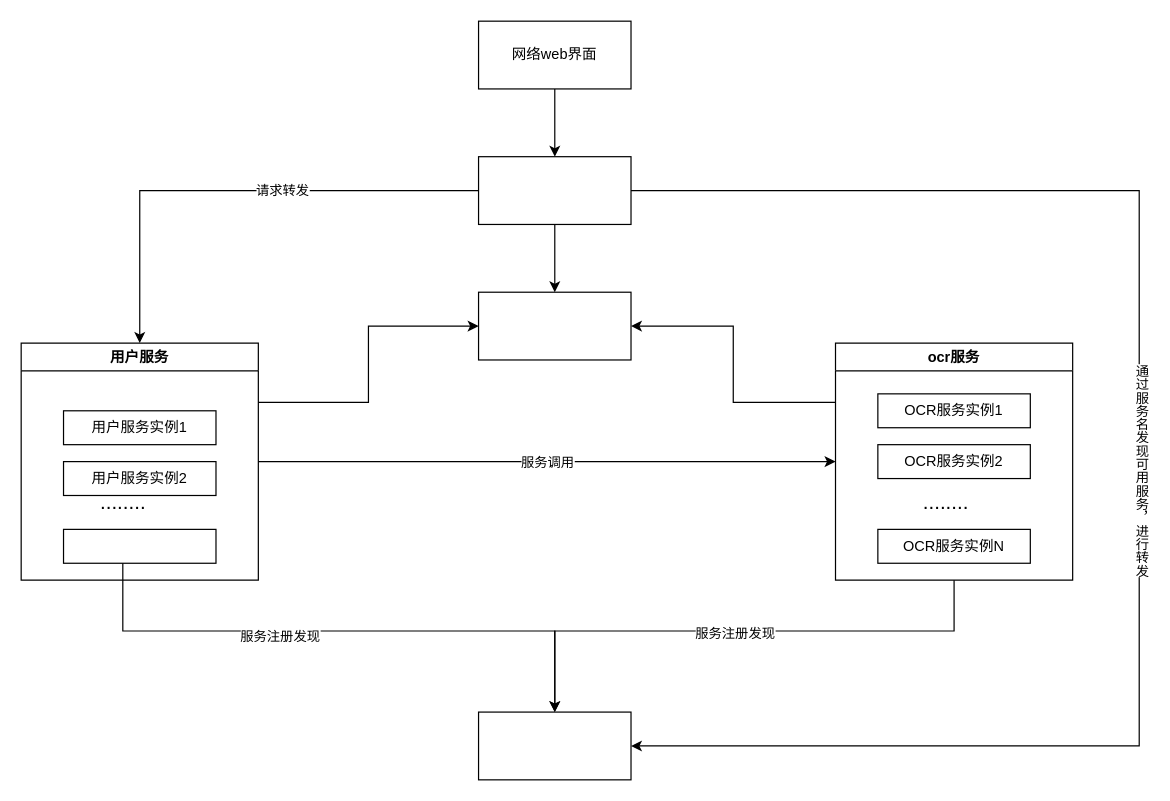
This 1170x801 diagram has some shape labels left out. The centre of each missing label's shape, as x and y in pixels:
Nacos总线服务进行配置集中管理: point 554,325
Nacos服务注册中心: point 554,745
用户服务实例N: point 139,545
网关服务（鉴权、转发）: point 554,189
